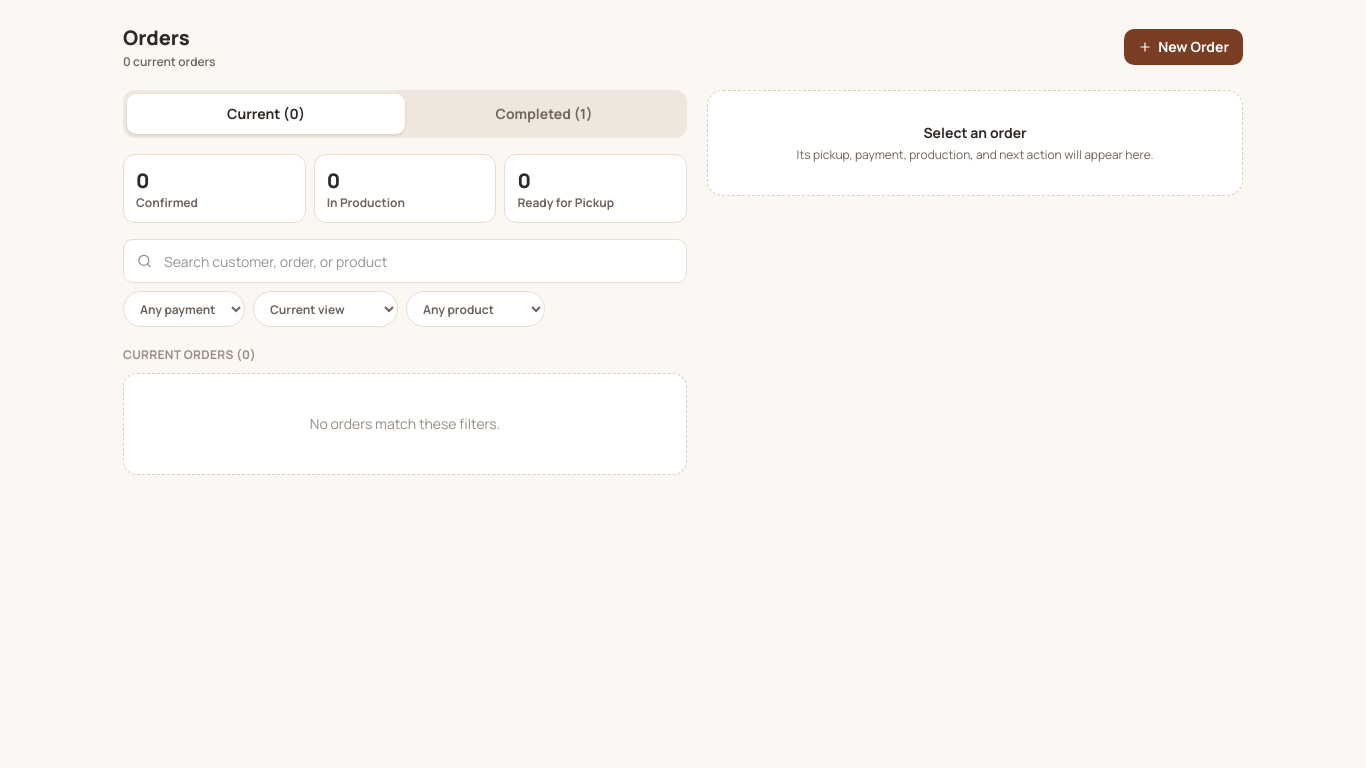
Test: OrdersScreen workflow queue › does not offer a lifecycle action for completed orders
Click the tab "Completed (1)" at (544,114), box [405,94,683,134]
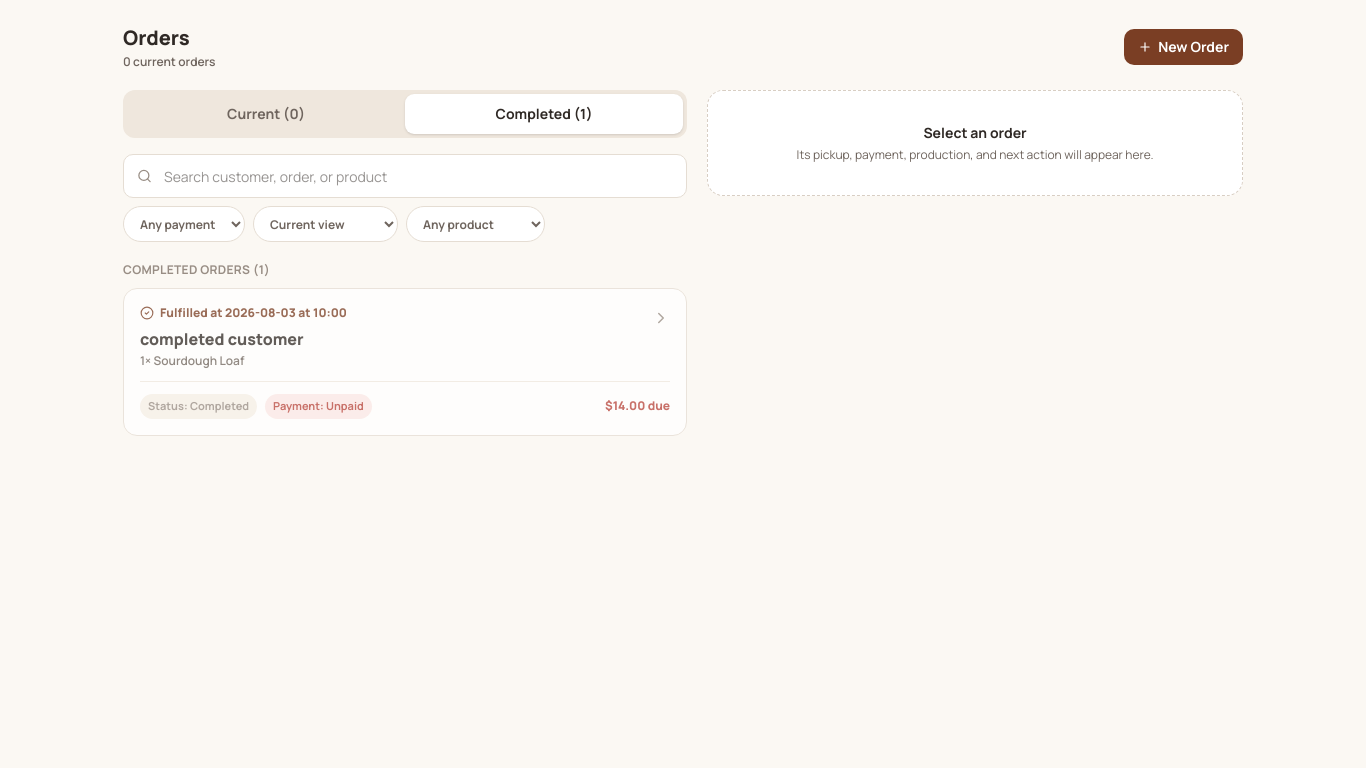
Click the button with aria-label "Open order order-completed for completed customer" at (253,312), box [124,289,686,434]
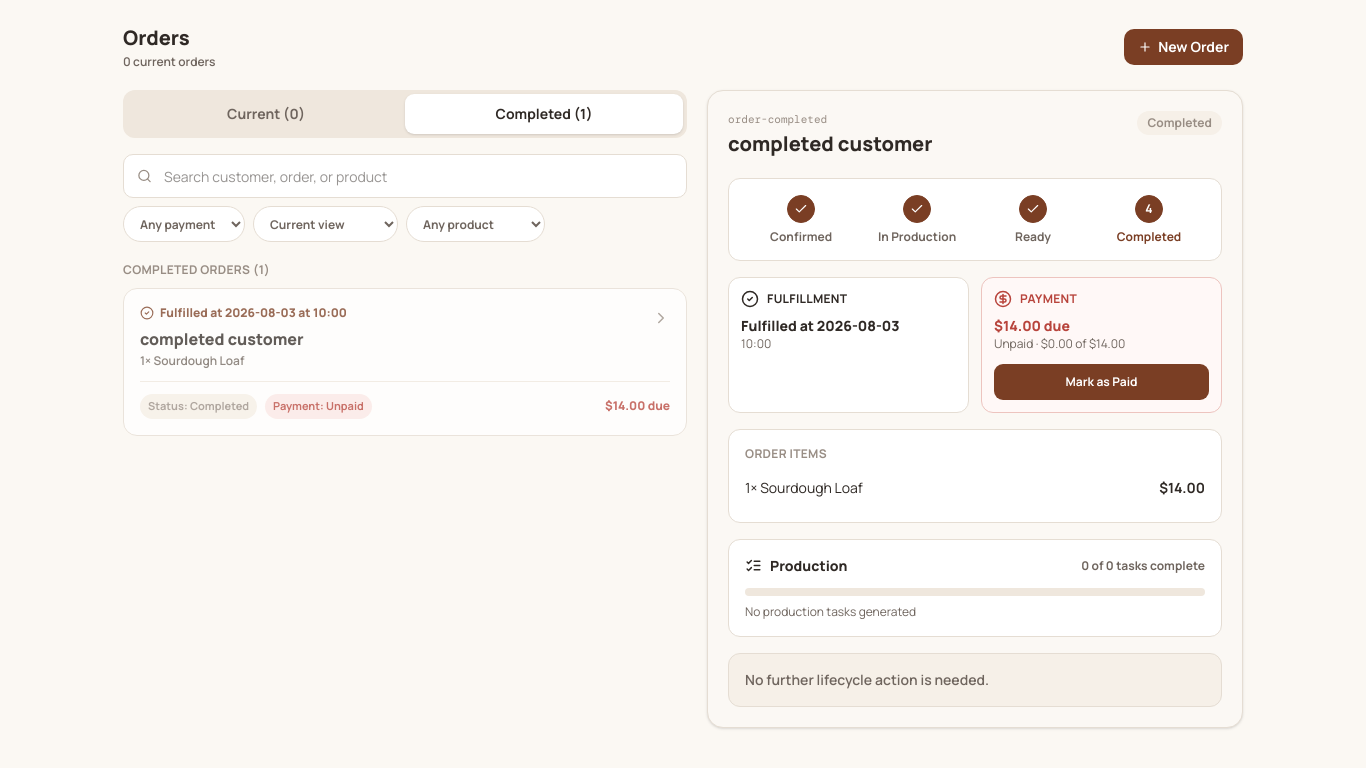
Result: the text named "Order action" reads "No further lifecycle action is needed." at [745,670,989,688]
